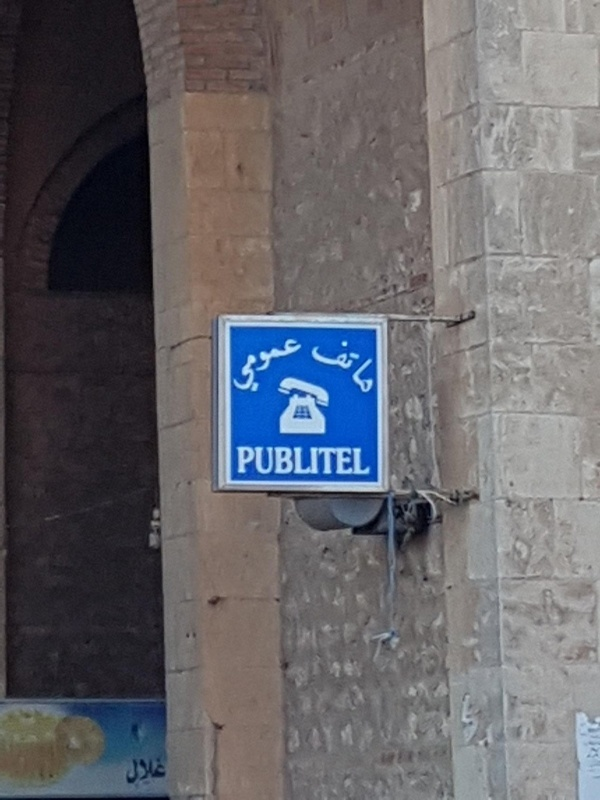text: (241, 317, 256, 406), (257, 317, 272, 406), (273, 317, 288, 406), (289, 317, 303, 406), (321, 328, 336, 401), (337, 328, 352, 401), (353, 328, 368, 401), (228, 317, 240, 406), (369, 328, 381, 401), (241, 443, 256, 477), (257, 443, 272, 477), (273, 443, 288, 477), (289, 443, 304, 477), (305, 443, 320, 477), (321, 443, 336, 477), (337, 443, 352, 477), (353, 443, 368, 477), (129, 757, 144, 785), (145, 757, 160, 785), (161, 757, 169, 785), (235, 443, 240, 477), (369, 443, 373, 477), (319, 328, 320, 401), (127, 757, 128, 785)
